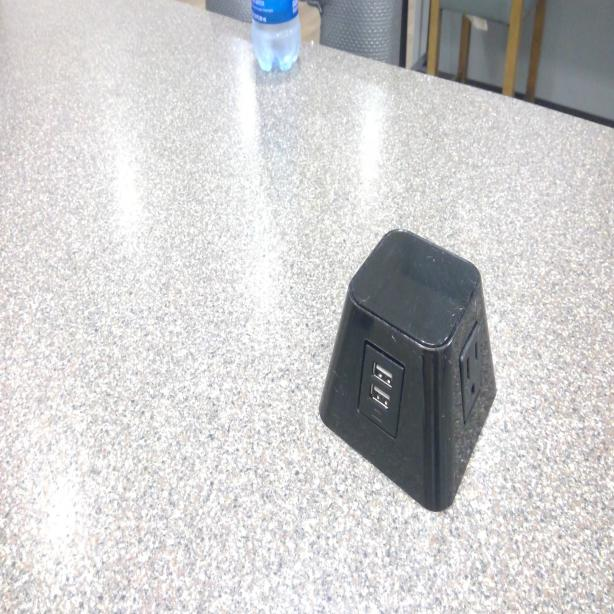typeb: (457, 332, 488, 403)
